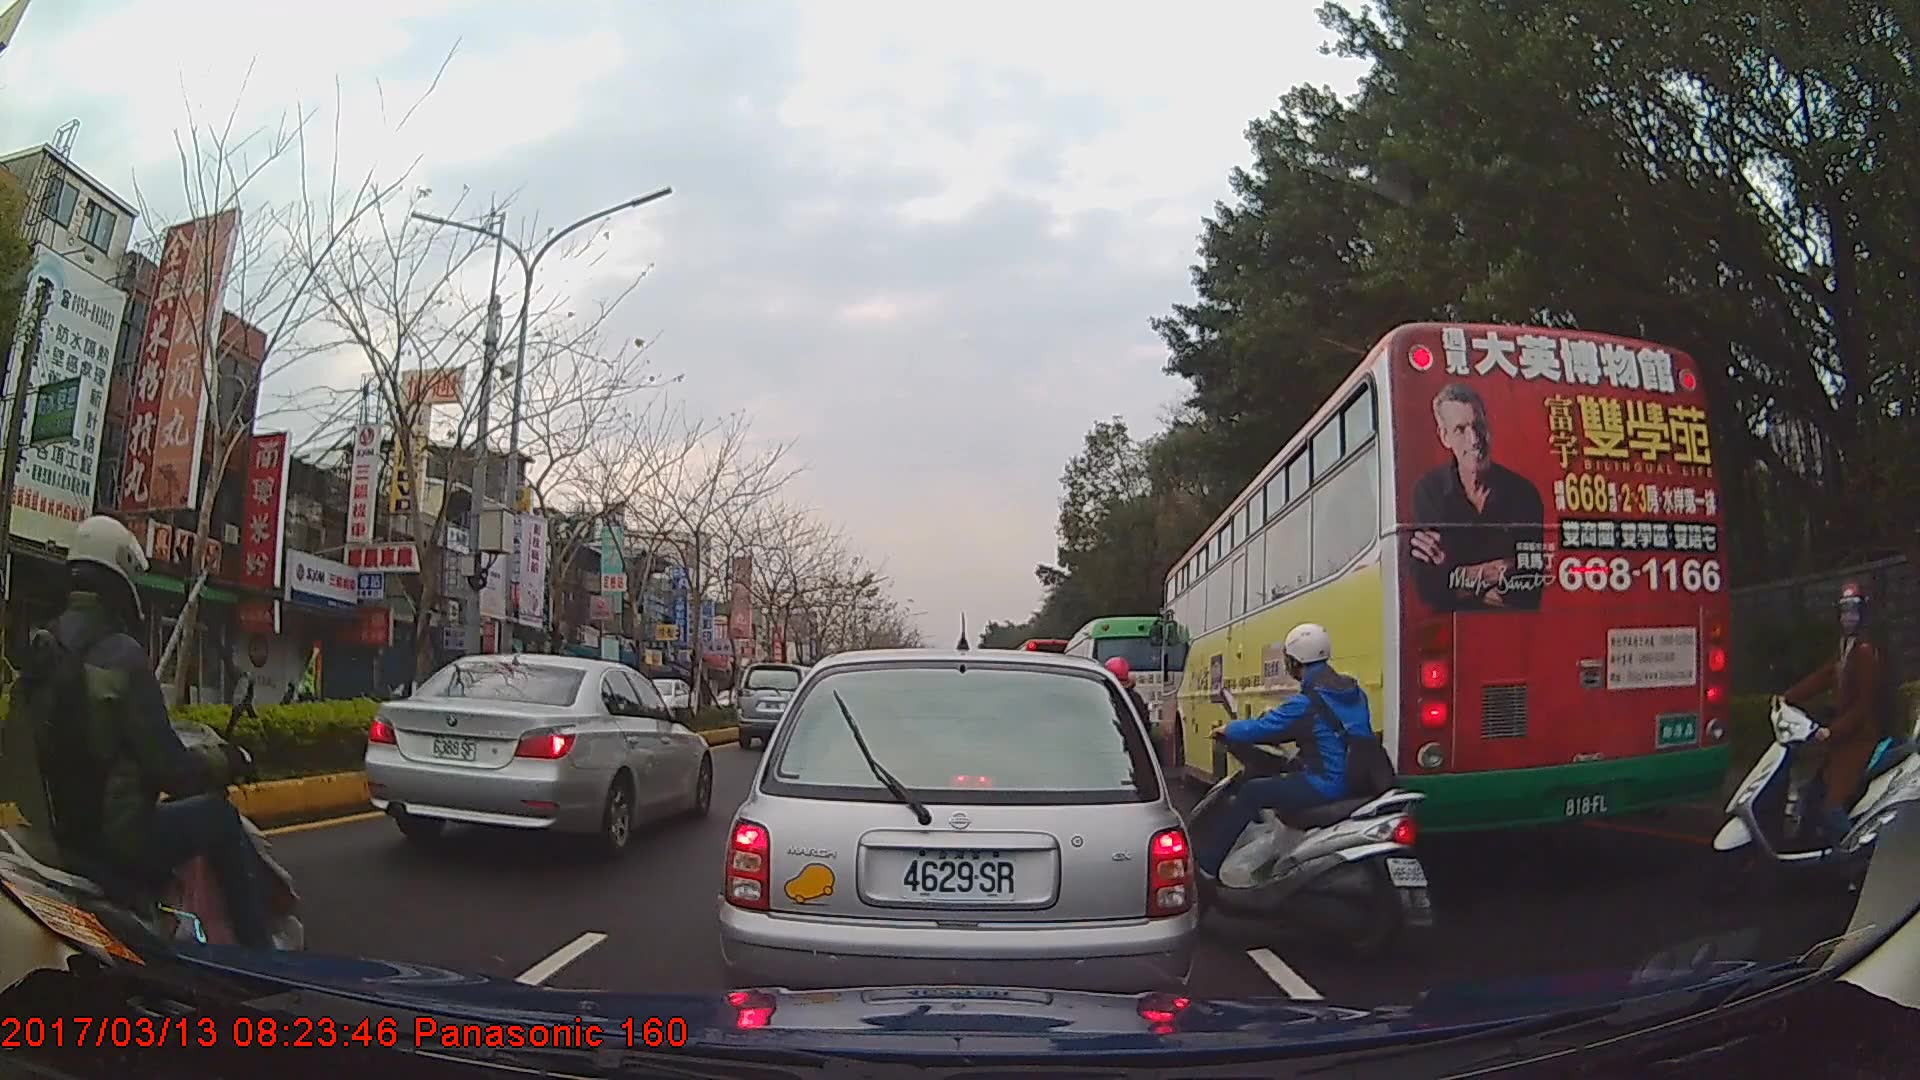rider: (1, 512, 309, 1023), (1178, 626, 1435, 967), (1710, 574, 1906, 896), (1823, 540, 1920, 991)
vehicle: (1160, 320, 1727, 853), (716, 646, 1196, 1030), (364, 649, 713, 858), (1059, 616, 1187, 761), (734, 662, 818, 748), (608, 673, 699, 730)
